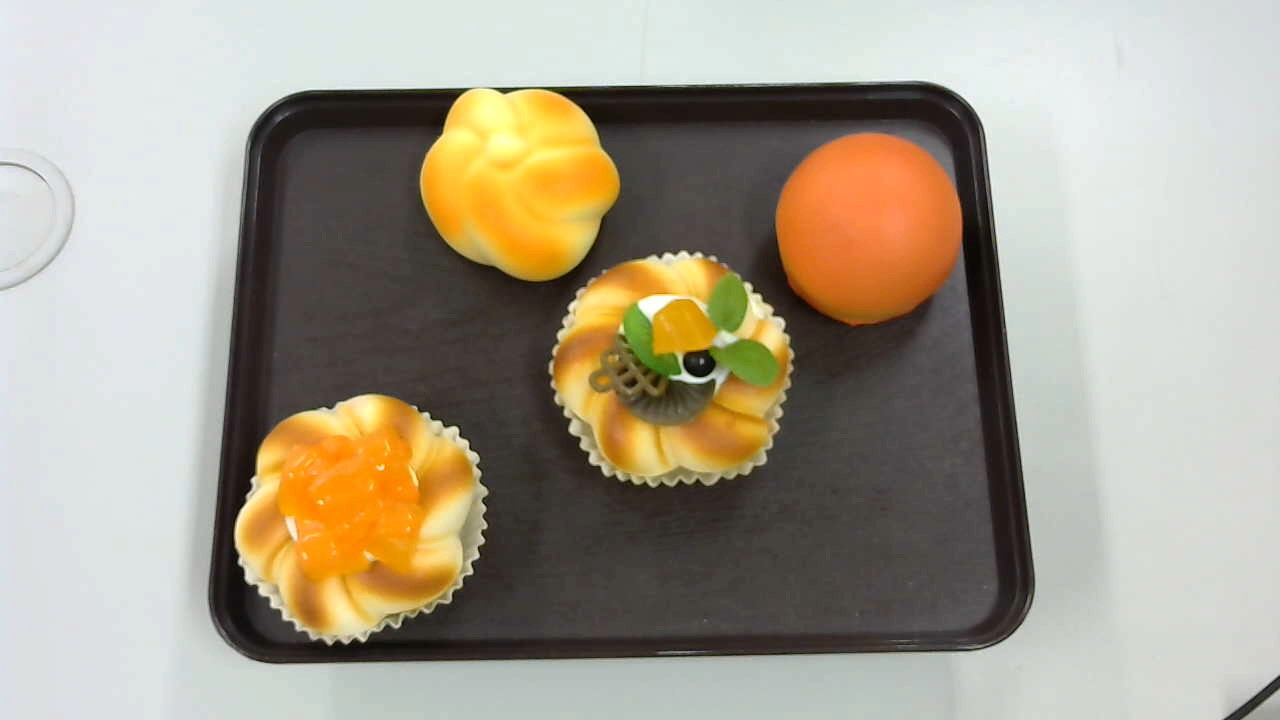bun: (775, 131, 964, 327)
fruit tart: (549, 249, 795, 484)
mango tart: (234, 395, 492, 645)
twist bread: (420, 88, 621, 283)
